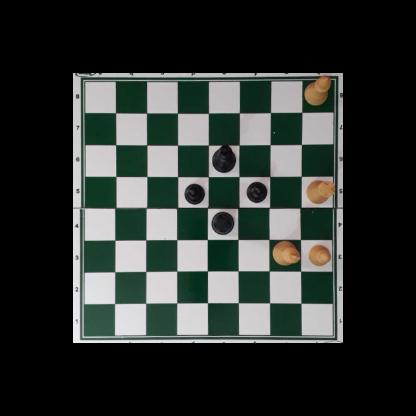black-king: (211, 145, 236, 174)
black-pawn: (183, 183, 205, 205), (246, 180, 267, 203)
black-rook: (212, 212, 234, 235)
white-bishop: (303, 74, 333, 105)
white-king: (271, 242, 301, 266)
white-pawn: (308, 244, 331, 266)
white-rook: (306, 179, 335, 203)
